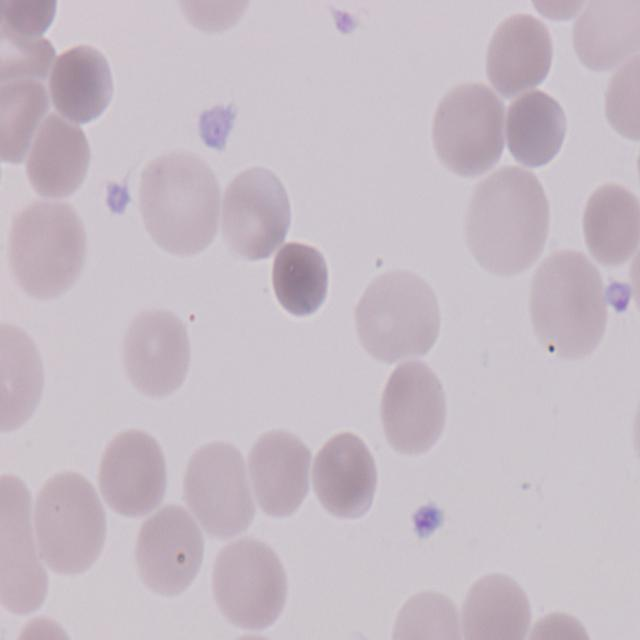RBC: (460, 158, 550, 281), (349, 266, 442, 374), (524, 248, 612, 360), (134, 147, 220, 260), (2, 192, 86, 305), (29, 470, 108, 580), (428, 82, 512, 185), (210, 534, 292, 637), (115, 303, 193, 407), (378, 358, 453, 464), (182, 440, 258, 542), (131, 501, 209, 600), (218, 167, 294, 263), (96, 423, 171, 519), (484, 12, 558, 102), (311, 436, 384, 524), (248, 426, 313, 523), (26, 111, 93, 204), (0, 320, 51, 439), (49, 44, 118, 131), (579, 180, 640, 278), (502, 91, 569, 179), (460, 571, 534, 640), (386, 586, 466, 640), (173, 0, 260, 36), (520, 611, 592, 640), (12, 612, 75, 640), (519, 0, 597, 21)
Spherocyte: (268, 238, 336, 324)
